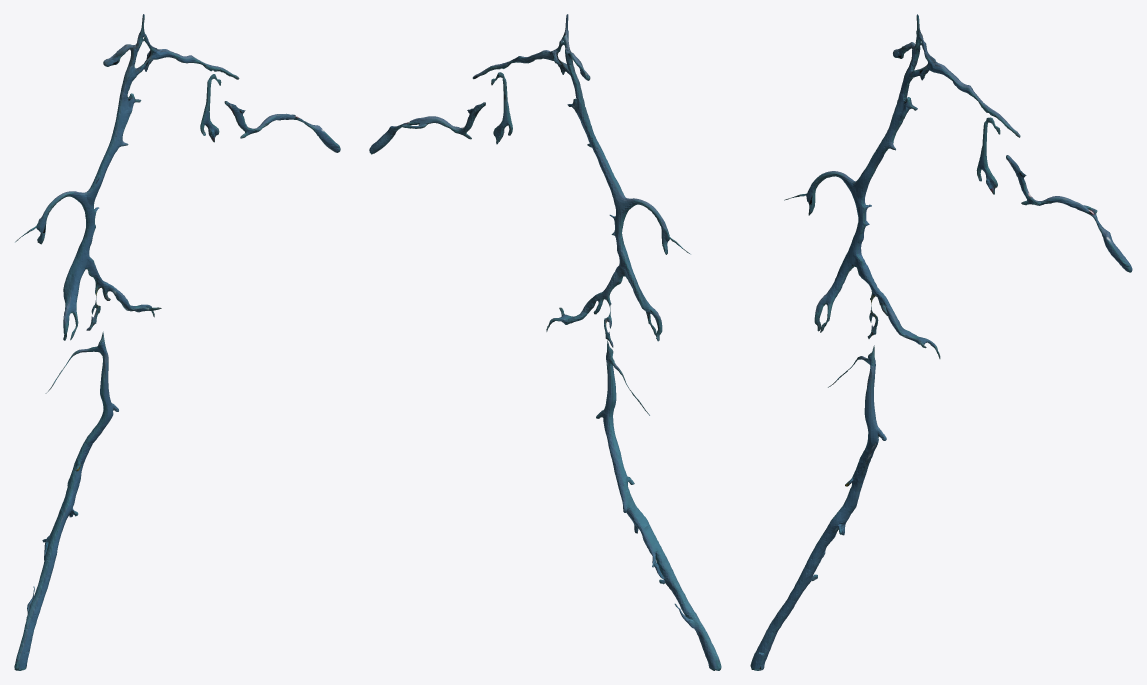
The model's file is thunder__0324162003_texture.fbx.
3 renders of one model, left to right at view 1: azimuth 30°, elevation 25°; view 2: azimuth 150°, elevation 25°; view 3: azimuth 330°, elevation 25°, orthographic. The views are drawn at different scales.
Parts seen in each view (by area): view 1: temp; view 2: temp; view 3: temp.
Boxes of the visible parts, x1,y1,x2,y2 form: temp: (14,14,340,670); temp: (369,14,721,670); temp: (750,14,1132,670).
Size of the model in its own units: 113 by 199 by 13.85.
Materials: 1 (1 with a texture image).
